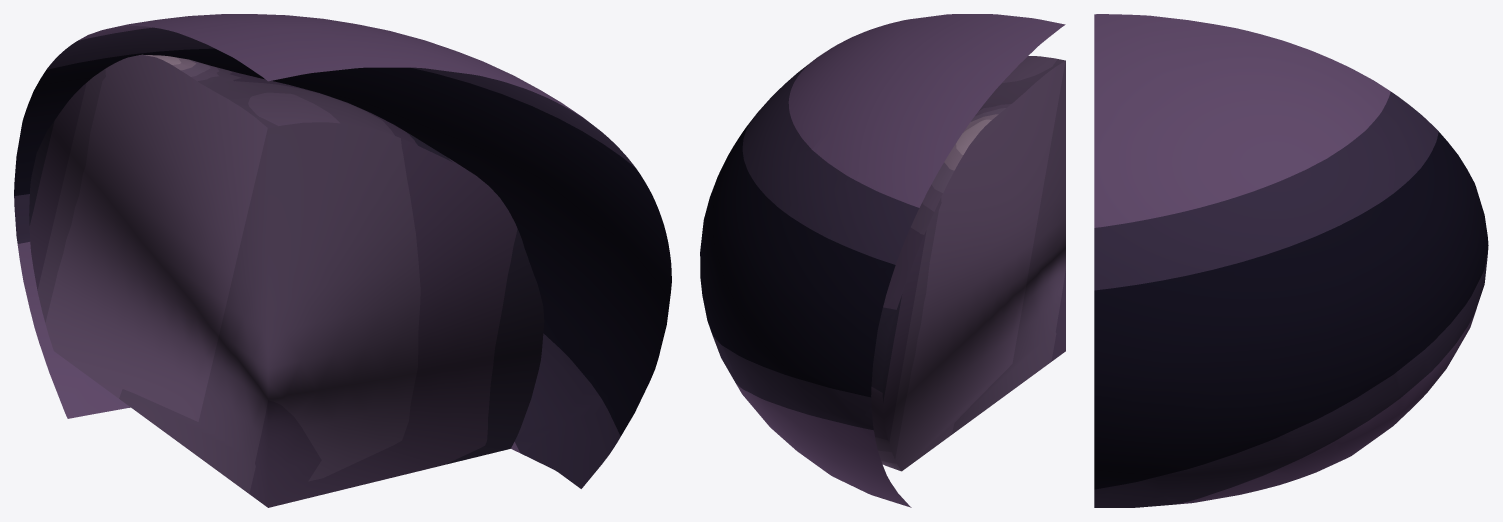
File: glass_globe_tr_170.glb
3 views of the same model, side by side, from view 1: azimuth 30°, elevation 25°; view 2: azimuth 150°, elevation 25°; view 3: azimuth 270°, elevation 25° (orthographic). The views are drawn at different scales.
Parts seen in each view (by area): view 1: glass_globe_tr; view 2: glass_globe_tr; view 3: glass_globe_tr.
Part boxes in pixels (box(x1,y1,x2,y2)): glass_globe_tr: box(14, 14, 671, 507); glass_globe_tr: box(700, 14, 1065, 507); glass_globe_tr: box(1094, 14, 1488, 507).
Bounding box in the file's own units: 21.9 × 25.09 × 23.86.
